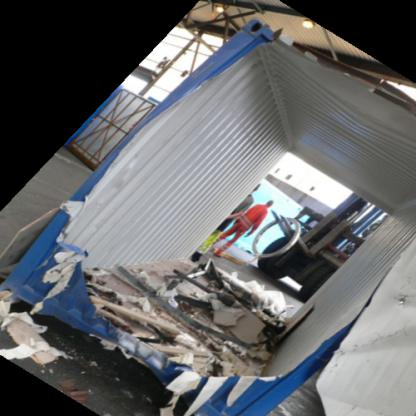Damage: (54, 15, 415, 415)
